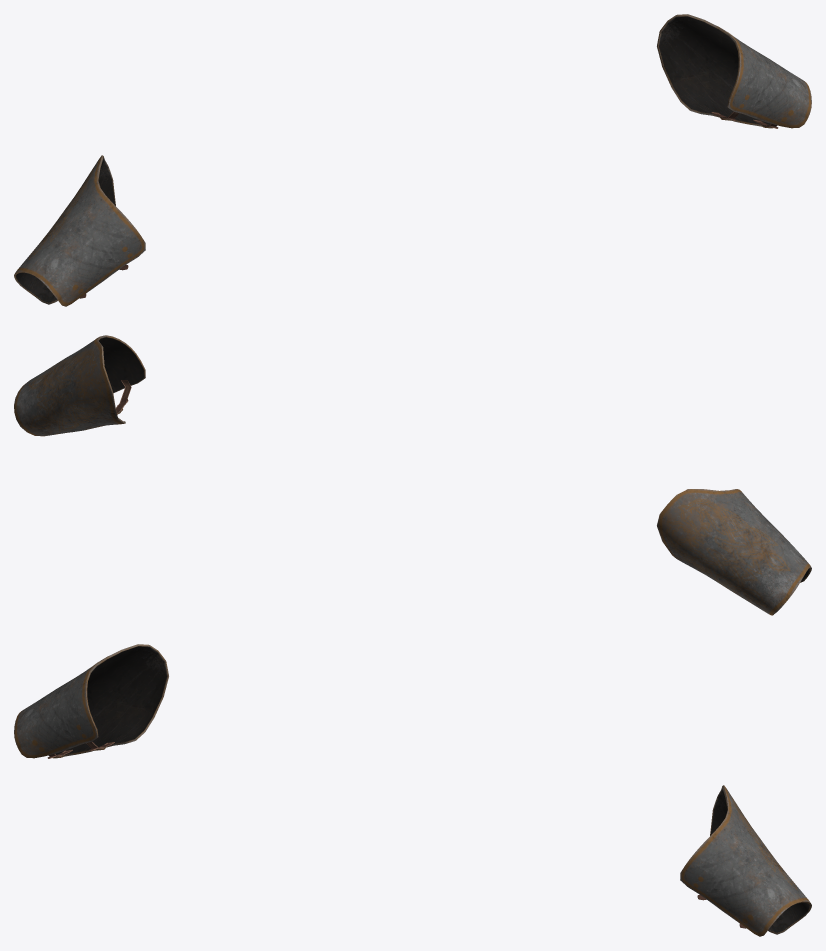
File: cts_rohan_armguard2.fbx
3 views of the same model, one above another, from view 1: azimuth 30°, elevation 25°; view 2: azimuth 150°, elevation 25°; view 3: azimuth 330°, elevation 25° (orthographic).
Parts seen in each view (by area): view 1: cts_rohan_armguard2; view 2: cts_rohan_armguard2; view 3: cts_rohan_armguard2.
Part boxes in pixels (x1,y1,x2,y2): cts_rohan_armguard2: (14,14,811,306); cts_rohan_armguard2: (14,335,811,615); cts_rohan_armguard2: (14,644,811,936).
Bounding box in the file's own units: 1.34 × 0.1609 × 0.1946.
1 material, 1 textured.
